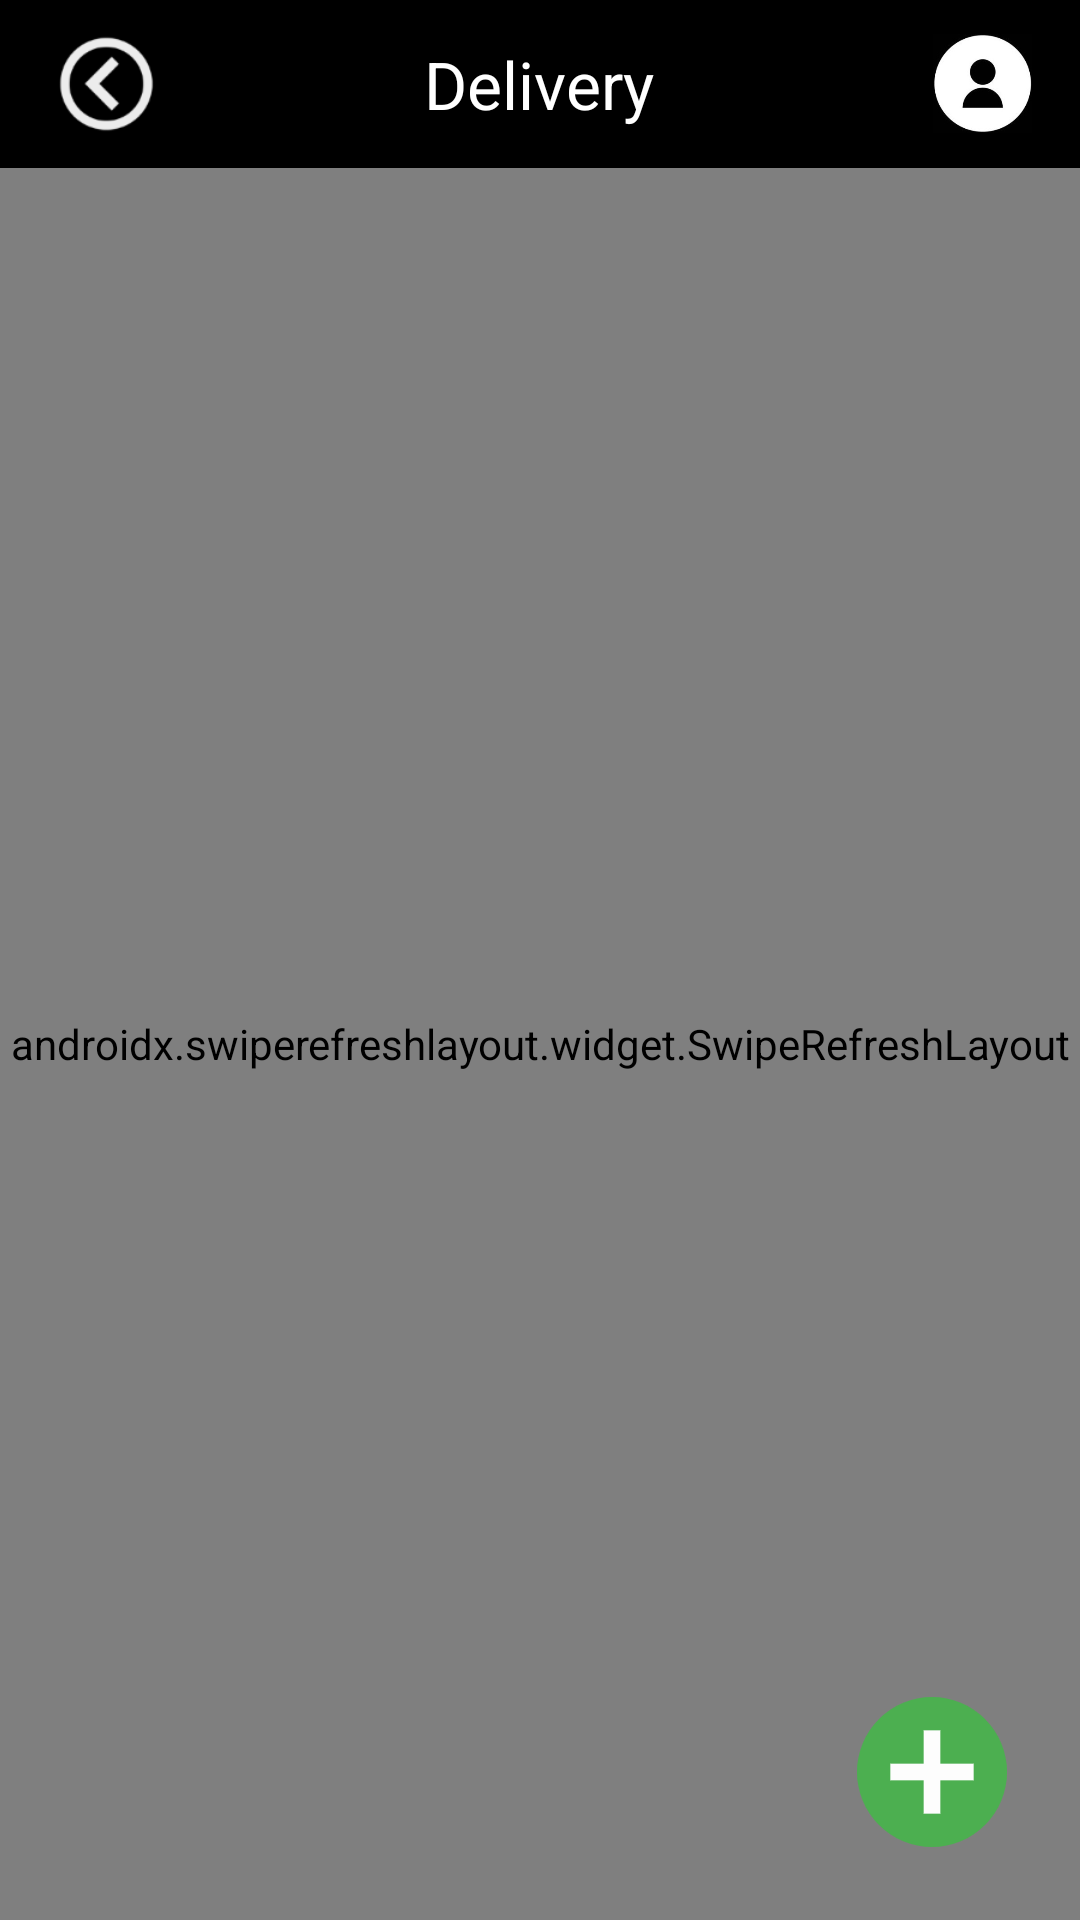

Where to tap for icons on this 1080 × 1920 app screen, as point (x, y):
account: point (982, 83)
add: point (932, 1772)
back: point (106, 84)
